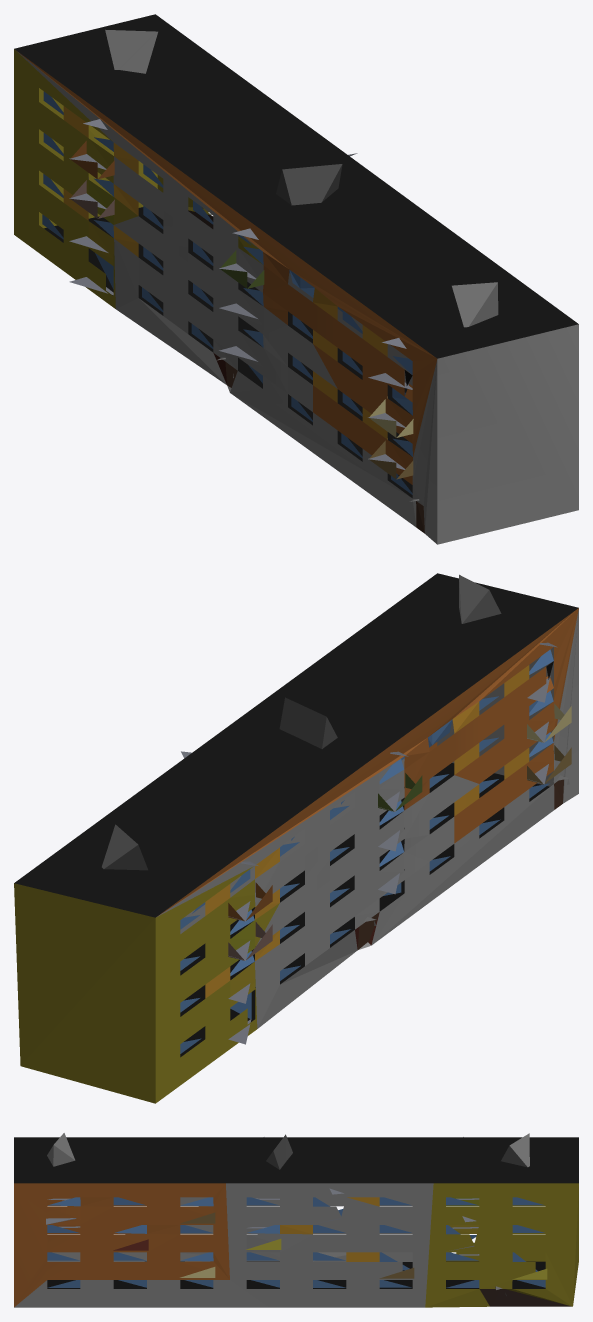
The model's file is Model_Block2.fbx.
3 views of the same model, one above another, from view 1: azimuth 30°, elevation 25°; view 2: azimuth 150°, elevation 25°; view 3: azimuth 270°, elevation 25° (orthographic). The views are drawn at different scales.
Parts seen in each view (by area): view 1: LOD_1; view 2: LOD_1; view 3: LOD_1.
Part boxes in pixels (left/top/right/bottom): LOD_1: left=14, top=14, right=578, bottom=544; LOD_1: left=14, top=573, right=578, bottom=1103; LOD_1: left=14, top=1133, right=578, bottom=1307.
Size of the model in its own units: 6556 by 1870 by 1585.
